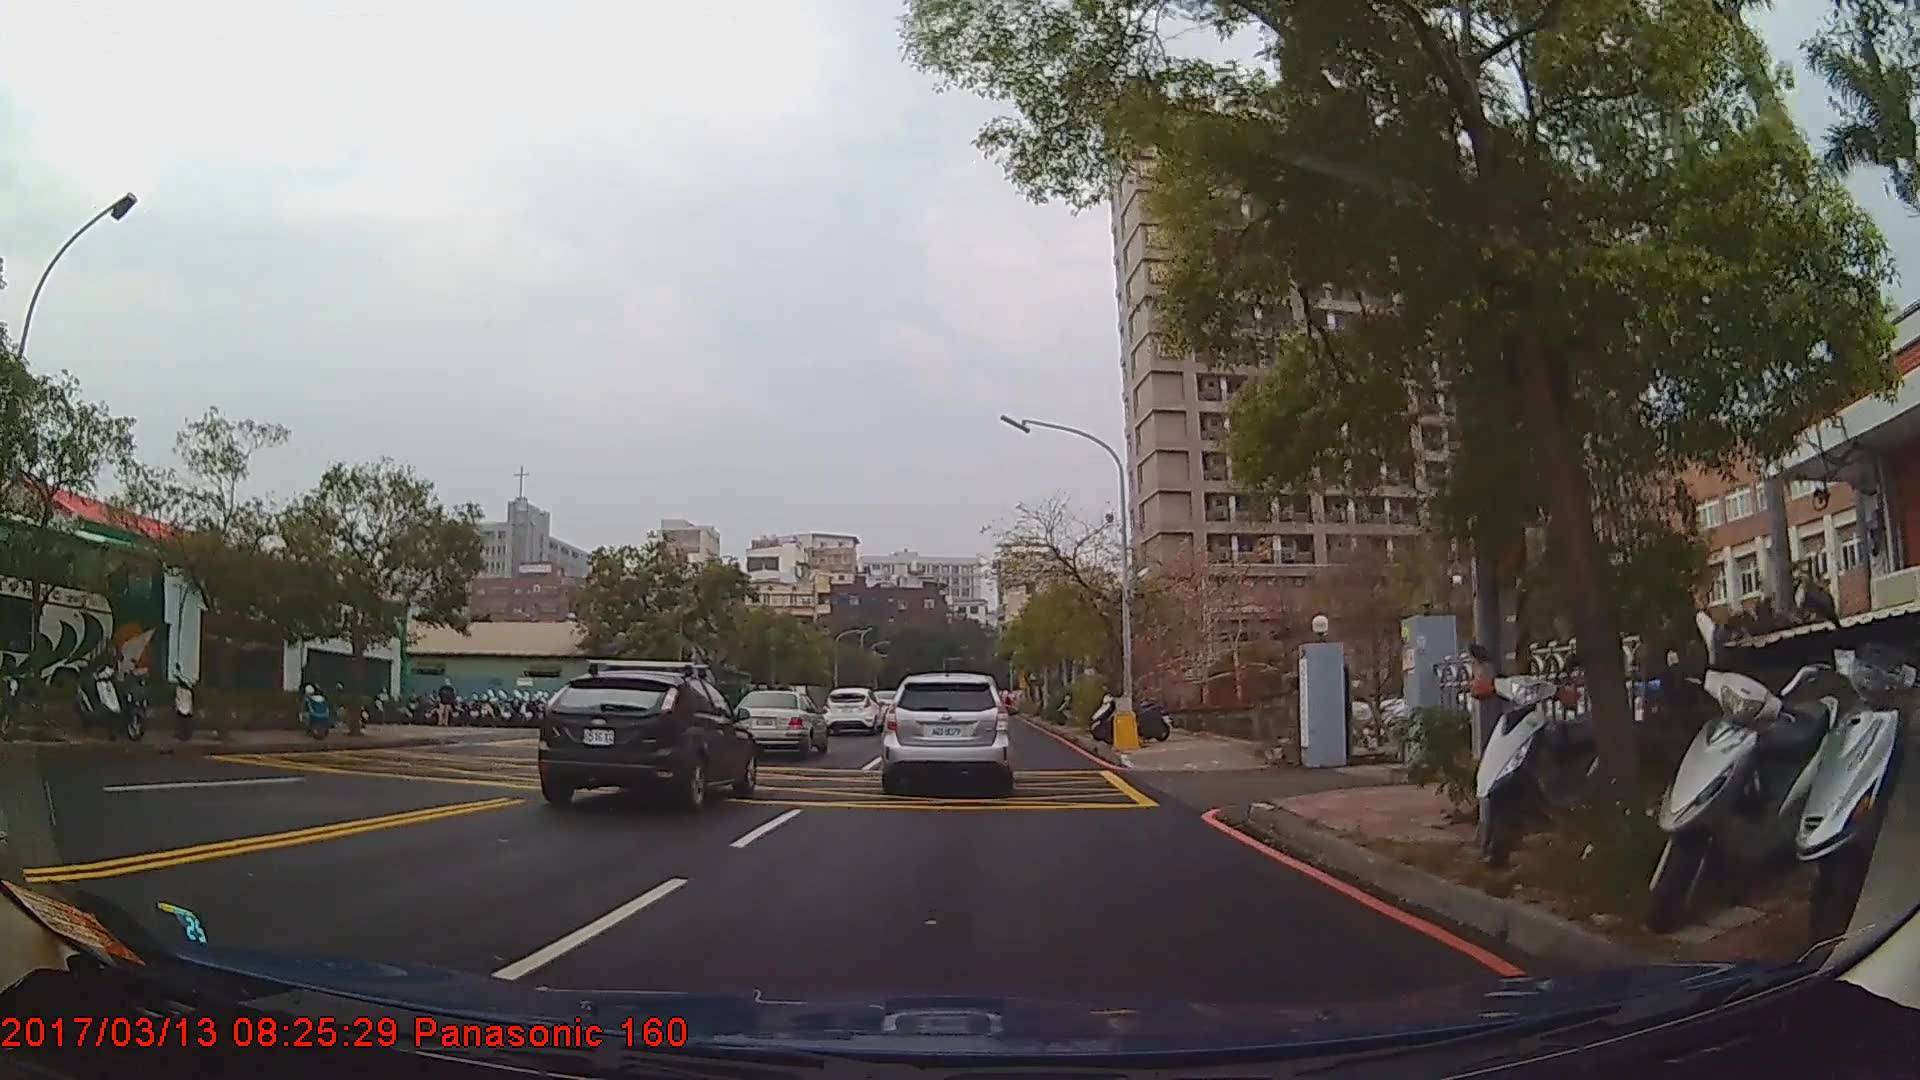pedestrian: (437, 680, 458, 728)
vehicle: (0, 503, 167, 727), (536, 668, 756, 811), (883, 672, 1009, 788), (730, 687, 825, 756), (822, 686, 883, 736)
